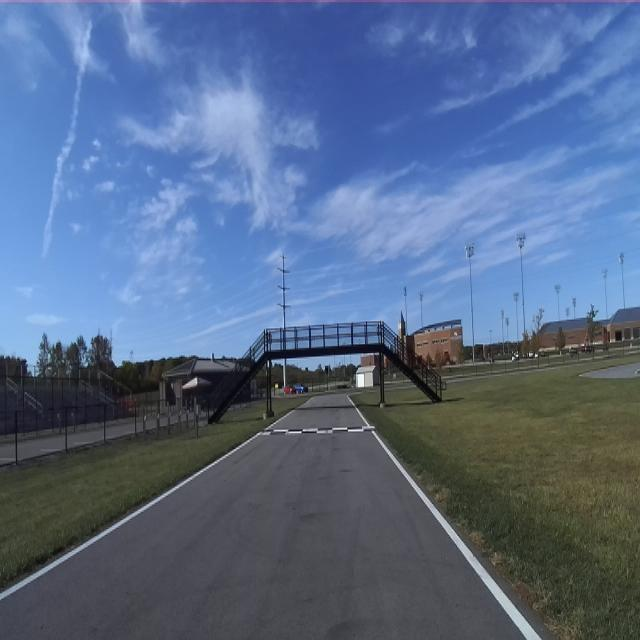white-line: (348, 396, 540, 639), (0, 433, 260, 601), (263, 419, 282, 431), (281, 408, 296, 420)
